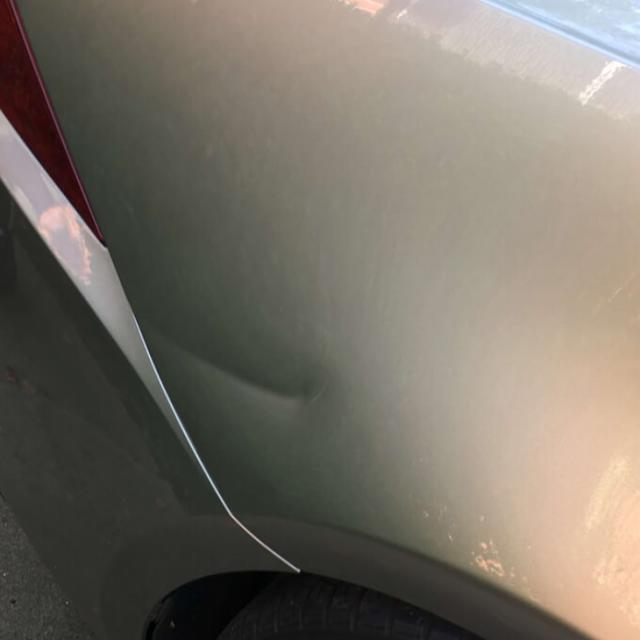dents: (130, 286, 377, 434)
